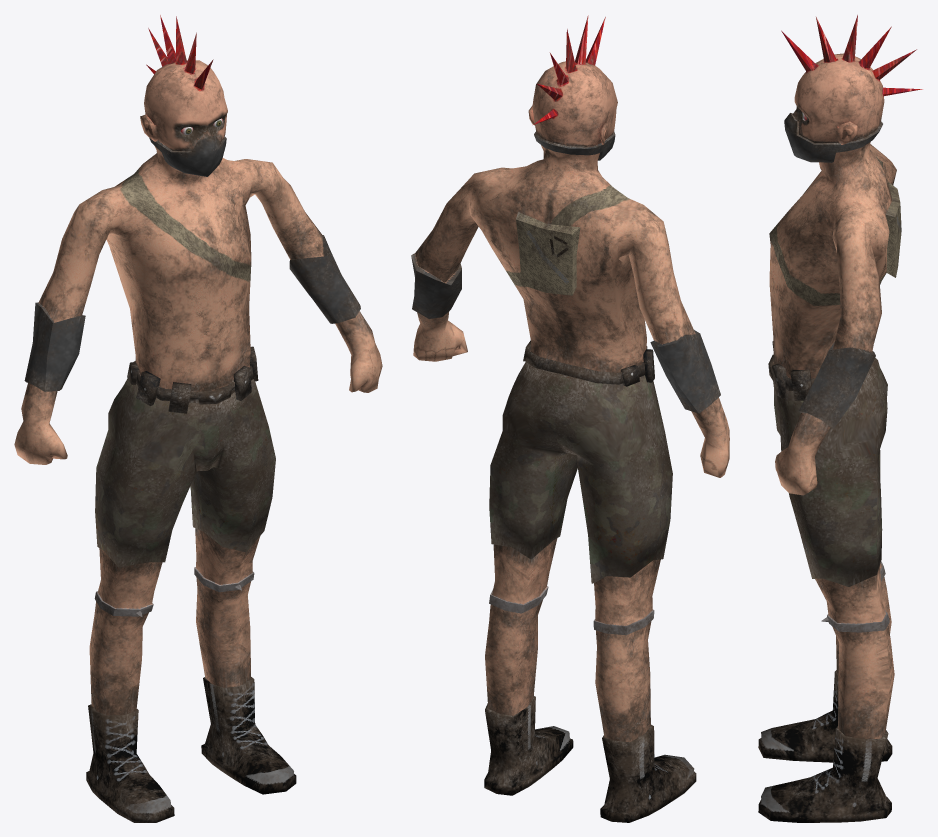
File: Anim_idle_npc2.0017.obj
The picture shows the model from 3 angles, left to right: view 1: azimuth 30°, elevation 25°; view 2: azimuth 150°, elevation 25°; view 3: azimuth 270°, elevation 25°; orthographic projection.
Visible parts, largest first — view 1: polySurface1; view 2: polySurface1; view 3: polySurface1.
Part boxes in pixels (x1,y1,x2,y2): polySurface1: (14,15,382,822); polySurface1: (411,15,729,822); polySurface1: (758,15,922,822).
Bounding box in the file's own units: 4.75 × 10.18 × 1.98.
